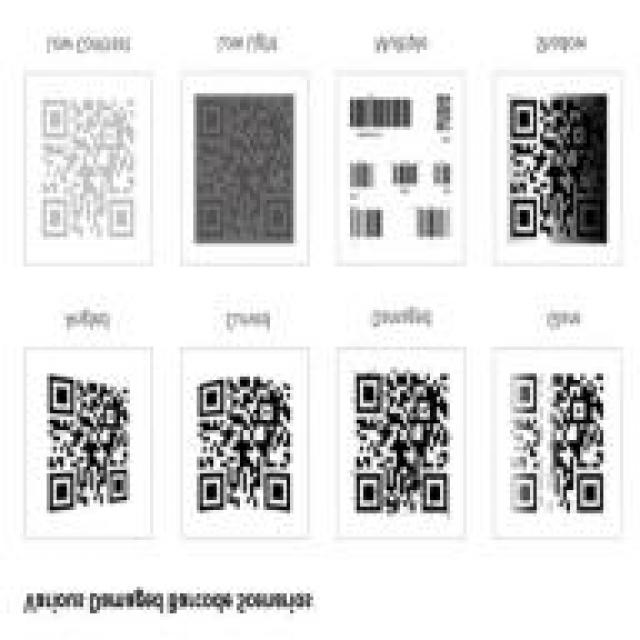QR_CODE: (187, 84, 305, 254), (343, 362, 457, 530), (33, 85, 145, 253), (500, 87, 613, 253), (190, 368, 300, 527), (503, 364, 612, 524), (36, 368, 142, 527), (433, 90, 460, 137)
